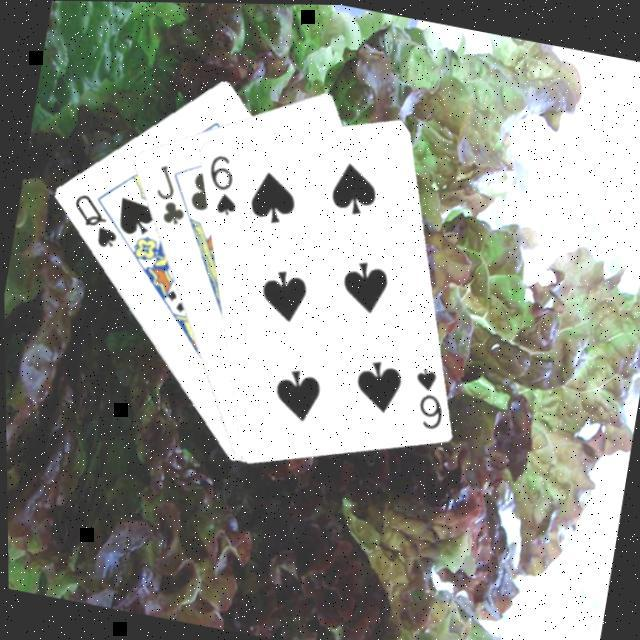6S: (199, 145, 249, 218), (404, 359, 454, 432)
JC: (147, 158, 197, 229)
QS: (65, 186, 128, 251)
